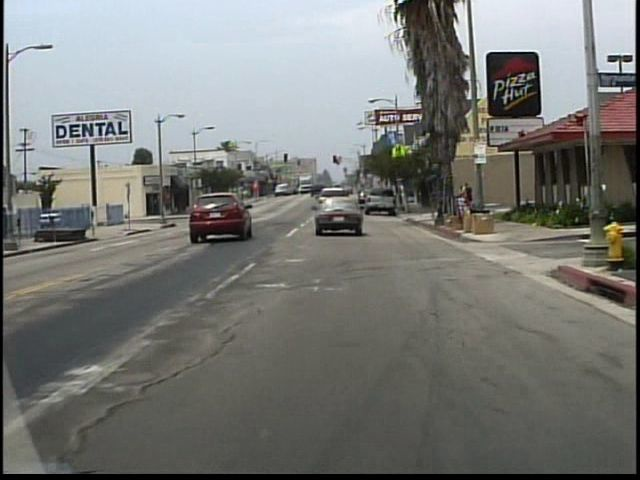person: (465, 181, 475, 211), (460, 184, 467, 208)
